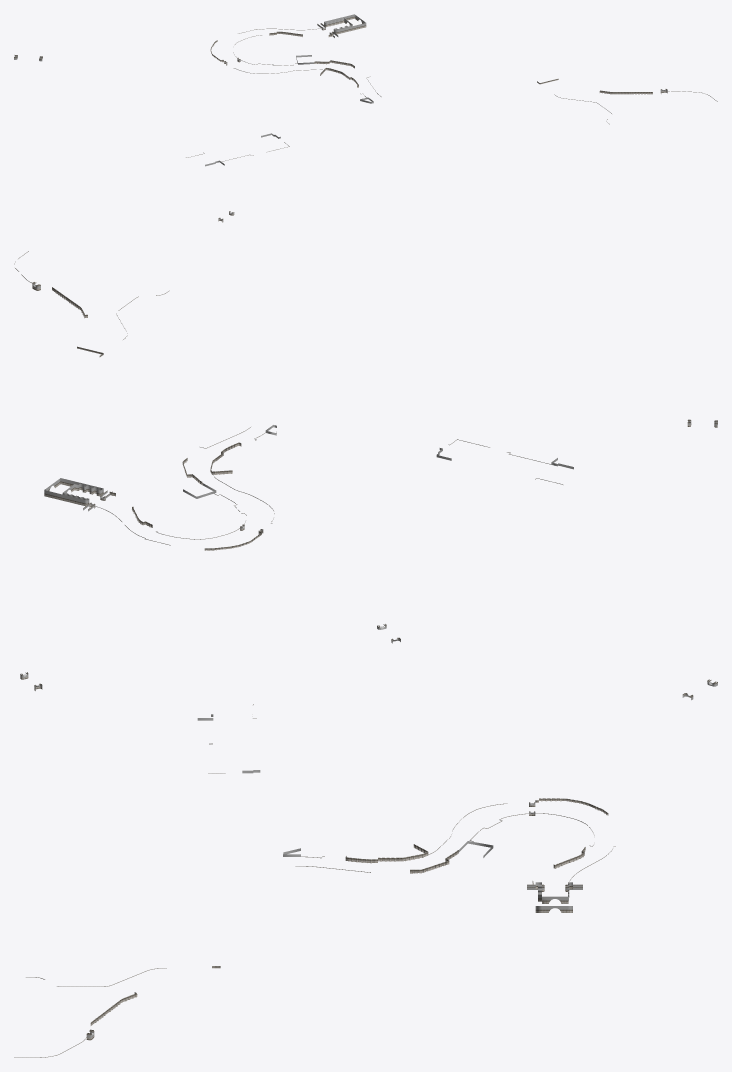
The model's file is waende_02.fbx.
3 renders of one model, top to bottom at view 1: azimuth 30°, elevation 25°; view 2: azimuth 150°, elevation 25°; view 3: azimuth 270°, elevation 25°, orthographic. The views are drawn at different scales.
Parts seen in each view (by area): view 1: Mesh_ncl1_2; view 2: Mesh_ncl1_2; view 3: Mesh_ncl1_2.
Part boxes in pixels (x1,y1,x2,y2): Mesh_ncl1_2: [210, 14, 381, 103]; Mesh_ncl1_2: [44, 425, 276, 550]; Mesh_ncl1_2: [283, 798, 615, 912].
Bounding box in the file's own units: 65438 × 813 × 50726.
